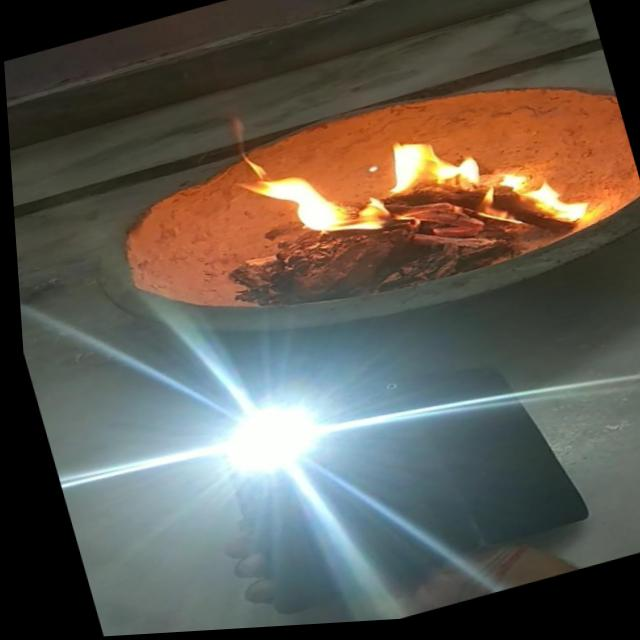fire: (366, 99, 602, 279), (213, 131, 390, 278)
